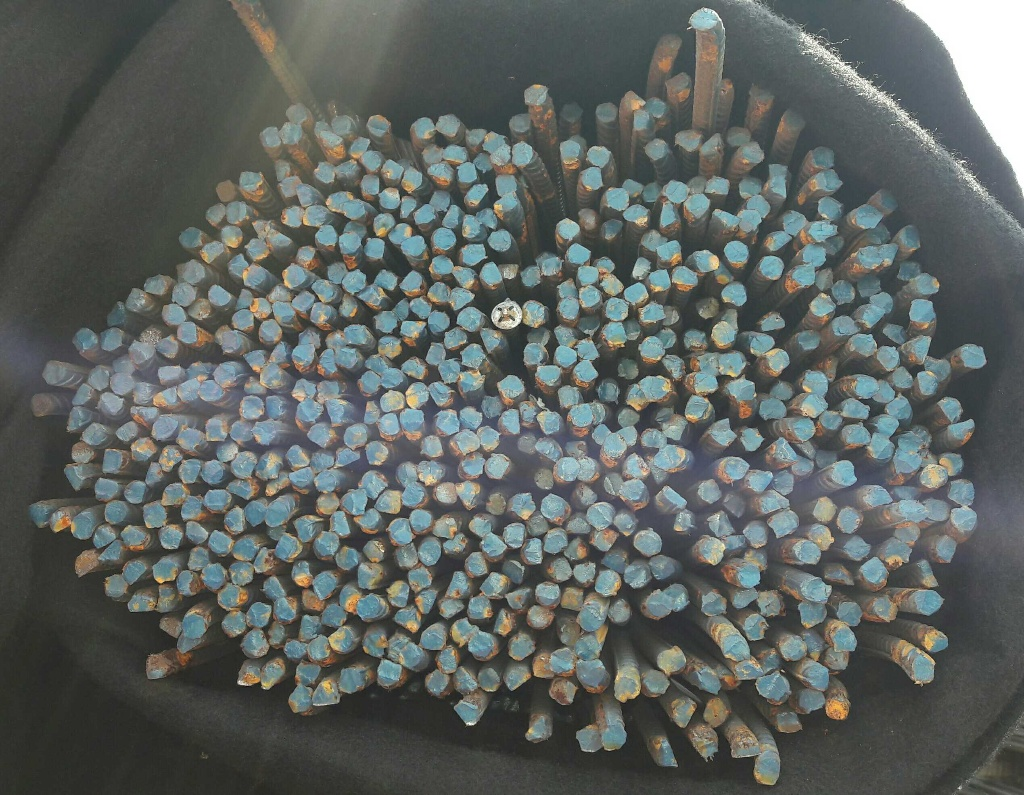dipstick: (217, 583, 247, 612), (377, 659, 406, 689), (769, 509, 799, 538), (327, 625, 355, 654), (756, 674, 786, 701), (580, 667, 610, 693), (241, 629, 268, 657), (905, 336, 932, 364), (948, 478, 975, 506), (273, 596, 299, 625), (361, 470, 387, 499), (798, 601, 827, 627), (655, 445, 685, 470), (672, 698, 697, 728), (296, 398, 323, 425), (75, 549, 101, 577), (221, 610, 247, 638), (374, 489, 402, 515), (468, 632, 496, 658), (549, 649, 577, 675), (260, 661, 285, 690), (801, 579, 831, 603), (246, 602, 272, 629), (357, 594, 384, 620), (388, 518, 414, 545), (549, 679, 576, 705), (658, 648, 685, 674), (723, 634, 750, 660), (924, 356, 951, 382), (594, 570, 622, 595), (699, 537, 724, 565), (659, 487, 687, 512), (937, 396, 962, 424), (288, 684, 312, 713), (481, 572, 507, 598), (576, 725, 602, 751), (759, 590, 785, 616), (710, 419, 736, 445), (527, 715, 552, 742), (426, 669, 451, 696), (362, 631, 387, 658), (458, 369, 485, 394), (508, 635, 535, 660), (603, 433, 628, 460), (634, 530, 661, 555), (692, 728, 717, 755), (744, 520, 769, 547), (950, 506, 977, 531), (338, 669, 366, 693), (452, 619, 476, 647), (642, 376, 670, 400), (920, 464, 948, 488), (760, 490, 790, 512), (73, 327, 98, 353), (358, 563, 384, 588), (587, 504, 613, 529), (647, 591, 673, 616), (794, 540, 820, 565), (805, 665, 830, 691), (872, 595, 897, 621), (885, 395, 911, 420), (915, 590, 941, 615), (232, 451, 256, 478), (122, 526, 149, 550), (121, 560, 148, 584), (209, 529, 233, 556), (229, 560, 253, 587), (405, 381, 429, 408), (457, 307, 484, 331), (511, 493, 535, 520), (541, 493, 565, 520), (536, 437, 563, 461), (498, 375, 525, 399), (624, 453, 651, 477), (862, 558, 889, 582), (307, 425, 335, 448), (457, 480, 480, 508), (590, 528, 618, 551), (854, 205, 882, 228), (857, 304, 885, 327), (705, 698, 727, 727), (809, 221, 838, 243), (227, 479, 257, 500), (265, 395, 290, 420), (454, 701, 479, 726), (342, 268, 367, 293), (417, 460, 442, 485), (481, 533, 506, 558), (602, 725, 627, 750), (758, 648, 783, 673), (672, 266, 697, 291), (869, 434, 894, 459), (837, 507, 862, 532), (202, 563, 226, 589), (177, 570, 201, 596), (313, 573, 337, 599), (275, 535, 299, 561), (331, 512, 357, 536), (285, 445, 309, 471), (460, 344, 486, 368), (803, 370, 827, 396), (844, 535, 870, 559), (237, 658, 260, 685), (343, 488, 366, 515), (437, 596, 464, 619), (526, 606, 553, 629), (523, 301, 546, 328), (727, 379, 754, 402), (800, 394, 827, 417), (808, 523, 831, 550), (309, 635, 331, 663), (455, 666, 477, 694), (849, 334, 877, 356), (899, 500, 927, 522), (225, 506, 246, 535), (131, 438, 156, 462), (199, 460, 223, 485), (182, 614, 207, 638), (296, 661, 320, 686), (292, 379, 317, 403), (399, 643, 423, 668), (446, 571, 470, 596), (576, 636, 601, 660), (544, 528, 568, 553), (754, 761, 779, 785), (708, 511, 733, 535), (724, 493, 749, 517), (625, 384, 649, 409), (718, 352, 743, 376), (759, 256, 784, 280), (774, 438, 798, 463), (833, 460, 857, 485), (836, 602, 861, 626), (800, 689, 825, 713), (885, 538, 909, 563), (420, 627, 446, 650), (429, 382, 452, 408), (504, 667, 530, 690), (667, 584, 690, 610), (685, 396, 708, 422), (817, 197, 843, 220), (204, 490, 231, 512), (920, 561, 942, 588), (690, 9, 718, 30), (841, 399, 869, 420), (731, 736, 760, 756), (913, 655, 933, 684), (143, 504, 167, 528), (146, 654, 170, 678), (263, 576, 287, 600), (316, 531, 340, 555), (335, 546, 359, 570), (282, 264, 306, 288), (396, 608, 420, 632), (436, 410, 460, 434), (640, 336, 664, 360), (662, 415, 686, 439), (626, 564, 650, 588), (651, 555, 675, 579), (614, 677, 638, 701), (204, 417, 227, 442), (240, 396, 265, 419), (177, 459, 200, 484), (71, 514, 94, 539), (431, 228, 456, 251), (457, 429, 480, 454), (468, 596, 493, 619), (464, 552, 489, 575), (486, 455, 511, 478), (578, 607, 603, 630), (524, 343, 549, 366), (604, 321, 627, 346), (644, 670, 669, 693), (702, 592, 727, 615), (663, 356, 686, 381), (832, 280, 855, 305), (844, 423, 869, 446), (824, 646, 849, 669), (961, 344, 986, 367), (97, 392, 123, 414), (161, 483, 187, 505), (387, 582, 409, 608), (429, 163, 455, 185), (436, 646, 458, 672), (326, 191, 352, 213), (521, 538, 543, 564), (537, 253, 563, 275), (745, 614, 767, 640), (714, 209, 740, 231), (935, 536, 956, 563), (292, 559, 312, 587), (893, 453, 921, 473), (182, 260, 205, 284), (130, 341, 154, 364), (42, 361, 65, 385), (181, 497, 204, 521), (105, 501, 129, 524), (160, 615, 183, 639), (260, 364, 283, 388), (344, 424, 367, 448), (437, 114, 461, 137), (433, 515, 457, 538), (480, 262, 503, 286), (557, 457, 580, 481), (537, 411, 560, 435), (578, 208, 601, 232), (606, 187, 629, 211), (609, 599, 632, 623), (697, 670, 721, 693), (765, 350, 789, 373), (684, 330, 708, 353), (711, 321, 735, 344), (816, 169, 840, 192), (833, 627, 856, 651), (939, 453, 963, 476), (151, 416, 176, 438), (95, 478, 117, 503), (153, 560, 178, 582), (244, 500, 266, 525), (266, 502, 288, 527), (232, 308, 254, 333), (373, 212, 395, 237), (419, 540, 441, 565), (464, 184, 489, 206), (724, 458, 749, 480), (750, 335, 775, 357), (722, 283, 747, 305), (685, 194, 710, 216), (746, 196, 771, 218), (781, 638, 806, 660), (877, 346, 899, 371), (198, 381, 224, 402), (64, 464, 85, 490), (232, 539, 258, 560), (314, 684, 340, 705), (401, 359, 427, 380), (396, 461, 417, 487), (641, 230, 667, 251), (760, 398, 786, 419), (909, 300, 935, 321), (864, 486, 891, 506), (156, 335, 179, 358), (29, 393, 52, 416), (29, 504, 52, 527), (290, 466, 313, 489), (366, 441, 389, 464), (536, 583, 559, 606), (566, 537, 589, 560), (570, 404, 593, 427), (495, 192, 518, 215), (783, 212, 806, 235), (855, 375, 878, 398), (172, 284, 196, 306), (110, 373, 134, 395), (159, 527, 183, 549), (272, 302, 296, 324), (343, 325, 367, 347), (393, 544, 417, 566), (453, 266, 477, 288), (561, 588, 583, 612), (656, 743, 678, 767), (738, 564, 760, 588), (724, 241, 748, 263), (875, 188, 899, 210), (811, 293, 835, 315), (814, 497, 836, 521), (897, 432, 921, 454), (926, 498, 950, 520), (924, 630, 948, 652), (200, 241, 225, 262), (268, 228, 293, 249), (106, 301, 127, 326), (161, 304, 186, 325), (153, 387, 178, 408), (124, 479, 145, 504), (257, 458, 282, 479), (318, 349, 339, 374), (478, 427, 499, 452), (624, 204, 649, 225), (640, 301, 665, 322), (917, 371, 938, 396), (143, 274, 169, 294), (326, 400, 346, 426), (536, 365, 562, 385), (766, 231, 792, 251), (833, 316, 860, 335), (226, 201, 248, 224), (188, 298, 211, 320), (178, 379, 201, 401), (230, 420, 253, 442), (105, 575, 128, 597), (322, 605, 345, 627), (260, 320, 283, 342), (381, 390, 404, 412), (378, 336, 401, 358), (421, 435, 444, 457), (413, 204, 436, 226), (408, 566, 430, 589), (460, 406, 482, 429), (488, 229, 511, 251), (549, 557, 571, 580), (699, 479, 721, 502), (740, 428, 762, 451), (696, 250, 719, 272), (792, 264, 815, 286), (870, 291, 892, 314), (793, 418, 815, 441), (281, 206, 305, 227), (81, 423, 105, 444), (127, 594, 155, 612), (293, 518, 314, 542), (219, 331, 243, 352), (359, 371, 380, 395), (366, 115, 390, 136), (382, 158, 403, 182), (388, 224, 412, 245), (479, 668, 500, 692), (503, 560, 524, 584), (565, 513, 589, 534), (555, 326, 579, 347), (567, 243, 591, 264), (677, 130, 701, 151), (695, 296, 719, 317), (748, 471, 772, 492), (773, 470, 794, 494), (916, 273, 940, 294), (68, 405, 88, 430), (103, 449, 123, 474), (402, 168, 422, 193), (481, 328, 501, 353), (504, 523, 524, 548), (810, 147, 835, 167), (736, 660, 762, 679), (129, 406, 158, 423), (280, 176, 302, 198), (133, 382, 155, 404), (315, 225, 337, 247), (360, 150, 382, 172), (374, 270, 396, 292), (577, 338, 599, 360), (606, 298, 628, 320), (601, 273, 623, 295), (739, 176, 761, 198), (804, 244, 826, 266), (239, 172, 262, 193), (180, 227, 203, 248), (227, 254, 248, 277), (244, 264, 265, 287), (208, 284, 231, 305), (177, 427, 200, 448), (72, 442, 95, 463), (185, 523, 208, 544), (188, 548, 211, 569), (316, 493, 339, 514), (314, 472, 337, 493), (254, 422, 275, 445), (292, 344, 315, 365), (379, 413, 400, 436), (400, 409, 423, 430), (339, 231, 360, 254), (360, 284, 383, 305), (374, 311, 397, 332), (401, 483, 424, 504), (416, 590, 437, 613), (444, 328, 467, 349), (451, 288, 474, 309), (476, 208, 497, 231), (575, 360, 598, 381), (598, 379, 619, 402), (578, 286, 601, 307), (496, 174, 517, 197), (559, 141, 580, 164), (587, 146, 610, 167), (666, 72, 689, 93), (667, 180, 688, 203), (620, 479, 643, 500), (738, 209, 761, 230), (952, 419, 975, 440), (402, 236, 426, 256), (443, 533, 467, 553), (426, 342, 446, 366), (462, 244, 486, 264), (528, 511, 548, 535), (511, 142, 531, 166), (658, 240, 682, 260), (624, 283, 648, 303), (642, 428, 666, 448), (694, 373, 718, 393), (857, 275, 881, 295), (874, 416, 898, 436), (769, 381, 794, 400), (205, 204, 227, 225), (221, 226, 242, 248), (304, 206, 326, 227), (248, 238, 269, 260), (177, 322, 198, 344), (101, 328, 122, 350), (88, 367, 109, 389), (214, 364, 236, 385), (50, 511, 71, 533), (335, 348, 357, 369), (326, 263, 348, 284), (462, 453, 484, 474), (409, 510, 431, 531), (364, 540, 385, 562), (428, 311, 450, 332), (331, 116, 353, 137), (483, 132, 505, 153), (482, 395, 503, 417), (485, 493, 506, 515), (533, 656, 554, 678), (556, 345, 577, 367), (558, 297, 579, 319), (557, 219, 579, 240), (596, 102, 618, 123), (614, 514, 635, 536), (820, 410, 842, 431), (873, 380, 894, 402), (892, 366, 913, 388), (279, 124, 302, 144), (93, 527, 116, 547), (292, 292, 315, 312), (524, 84, 547, 104), (700, 134, 723, 154), (728, 126, 751, 146), (603, 553, 626, 573), (783, 109, 806, 129), (859, 246, 882, 266), (826, 699, 849, 719), (883, 324, 906, 344), (380, 368, 404, 387), (443, 145, 467, 164), (402, 320, 426, 339), (897, 261, 921, 280), (158, 365, 183, 383), (495, 609, 512, 635), (314, 161, 335, 182), (72, 383, 93, 404), (359, 508, 380, 529), (410, 297, 431, 318), (350, 137, 371, 158), (743, 141, 764, 162), (792, 455, 813, 476), (217, 180, 237, 202), (126, 288, 146, 310), (250, 298, 272, 318), (365, 237, 385, 259), (415, 117, 435, 139), (436, 482, 458, 502), (439, 360, 459, 382), (506, 590, 528, 610), (575, 562, 595, 584), (578, 458, 598, 480), (601, 219, 623, 239), (580, 168, 602, 188), (618, 407, 640, 427), (674, 509, 694, 531), (798, 329, 820, 349), (286, 104, 309, 123), (341, 199, 364, 218), (468, 517, 491, 536), (645, 139, 668, 158), (604, 473, 623, 496), (777, 713, 800, 732), (867, 224, 890, 243), (462, 214, 480, 238), (660, 203, 678, 227), (895, 527, 920, 544), (116, 421, 137, 441), (216, 441, 237, 461), (245, 352, 265, 373), (360, 174, 380, 195), (380, 188, 400, 209), (577, 483, 597, 504), (558, 386, 579, 406), (521, 266, 541, 287), (557, 279, 578, 299), (577, 266, 598, 286), (634, 109, 654, 130), (649, 270, 670, 290), (618, 358, 639, 378), (900, 226, 920, 247), (311, 302, 330, 324), (320, 131, 342, 150), (366, 355, 388, 374), (400, 271, 422, 290), (428, 282, 450, 301), (632, 257, 651, 279), (297, 244, 315, 267), (527, 327, 550, 345), (706, 176, 729, 194), (503, 409, 520, 433), (751, 86, 775, 103), (761, 313, 785, 330), (422, 145, 442, 165), (534, 468, 554, 488), (625, 90, 645, 110), (643, 182, 663, 202), (260, 128, 281, 147), (518, 433, 537, 454), (492, 145, 511, 166), (661, 32, 682, 51), (645, 98, 666, 117), (296, 185, 314, 207), (431, 256, 454, 273), (561, 103, 581, 122), (592, 425, 611, 445), (429, 191, 450, 209), (769, 177, 787, 198), (274, 159, 291, 181), (509, 115, 531, 132), (442, 205, 458, 228), (458, 163, 477, 182), (363, 401, 378, 425), (594, 257, 615, 274), (566, 441, 588, 457), (734, 591, 756, 607), (235, 289, 253, 308), (475, 152, 493, 171), (623, 179, 642, 197), (466, 129, 486, 146), (817, 269, 833, 290), (663, 305, 679, 324), (688, 177, 704, 195)
